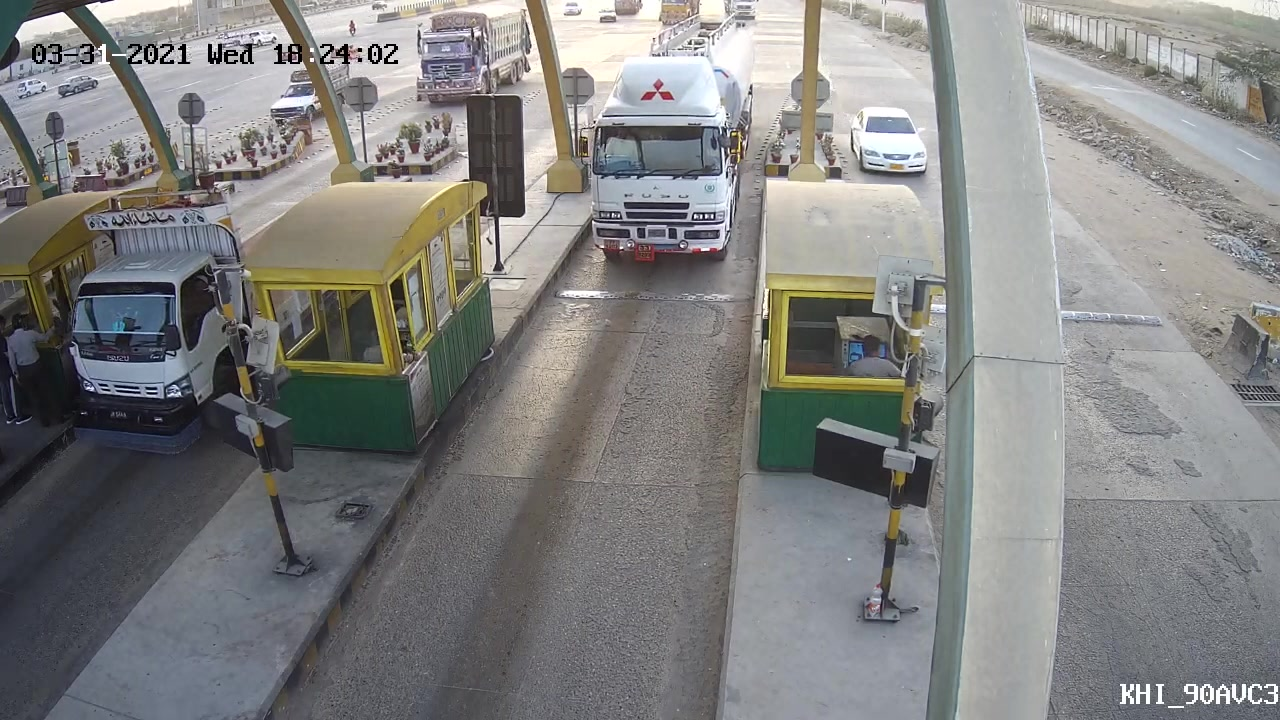F6: (579, 14, 773, 265)
